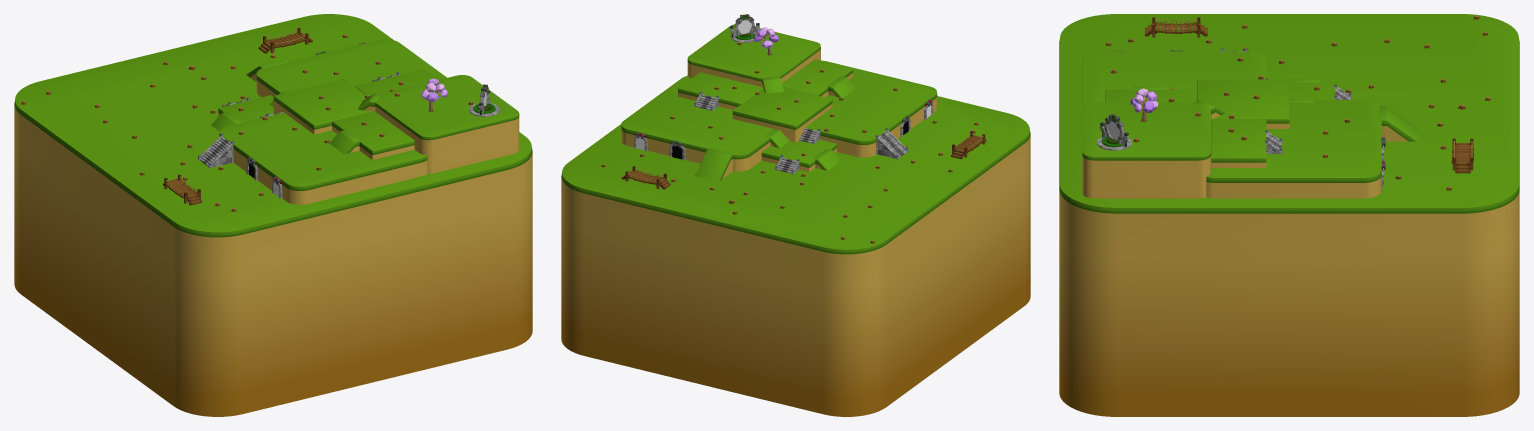
File: LandMass - Copie.glb
The picture shows the model from 3 angles, left to right: view 1: azimuth 30°, elevation 25°; view 2: azimuth 150°, elevation 25°; view 3: azimuth 270°, elevation 25°; orthographic projection. The views are drawn at different scales.
Visible parts, largest first — view 1: Ground (×8), Bridge (×2), Stair, Ramp; view 2: Ground (×8), Bridge (×2), Ramp02, Stair, Portal; view 3: Ground (×8), Bridge (×2), Ramp02, Portal, sakura tree.
Boxes of the visible parts, x1,y1,x2,y2 form: Ground (×8): (14, 14, 532, 416); Bridge (×2): (163, 27, 312, 205); Stair: (198, 133, 234, 167); Ramp: (329, 130, 360, 154); Ground (×8): (561, 24, 1030, 416); Bridge (×2): (621, 131, 986, 189); Ramp02: (695, 148, 733, 181); Stair: (875, 128, 908, 159); Portal: (729, 14, 759, 42); Ground (×8): (1059, 14, 1519, 416); Bridge (×2): (1145, 17, 1473, 173); Ramp02: (1379, 106, 1417, 141); Portal: (1096, 114, 1131, 150); sakura tree: (1130, 88, 1158, 121).
Bounding box in the file's own units: 100 × 67.67 × 100.
Materials: 4 (2 with a texture image).
